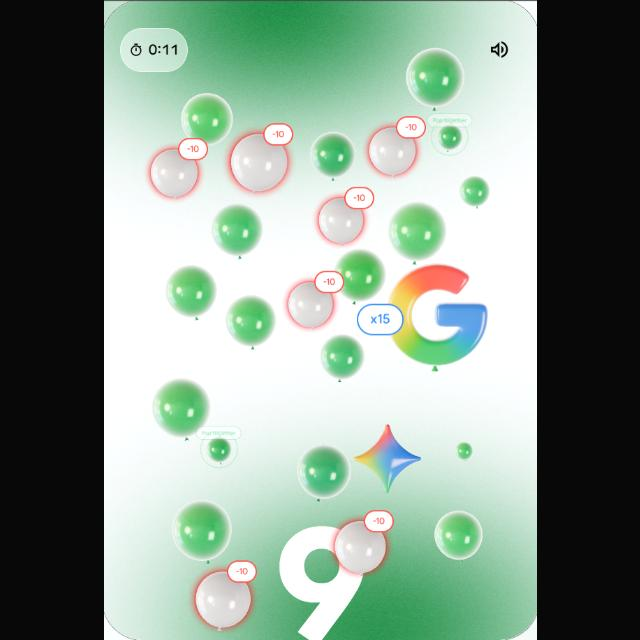gemini: (349, 424, 427, 494)
hazard: (330, 504, 398, 580), (227, 124, 293, 196), (191, 564, 257, 632), (140, 139, 210, 201), (282, 270, 344, 332), (364, 116, 424, 180), (310, 188, 370, 248)
safe: (171, 502, 235, 568), (404, 46, 466, 112), (150, 376, 208, 439), (294, 442, 352, 502), (389, 203, 445, 265), (332, 244, 384, 304), (222, 297, 282, 348), (164, 264, 216, 322), (212, 200, 264, 258), (179, 92, 233, 146), (429, 512, 486, 562), (307, 126, 357, 182), (318, 336, 362, 384), (456, 172, 489, 208), (451, 438, 477, 460)
safe-pair: (424, 112, 474, 158), (195, 424, 243, 470)
super_g: (358, 265, 489, 371)
